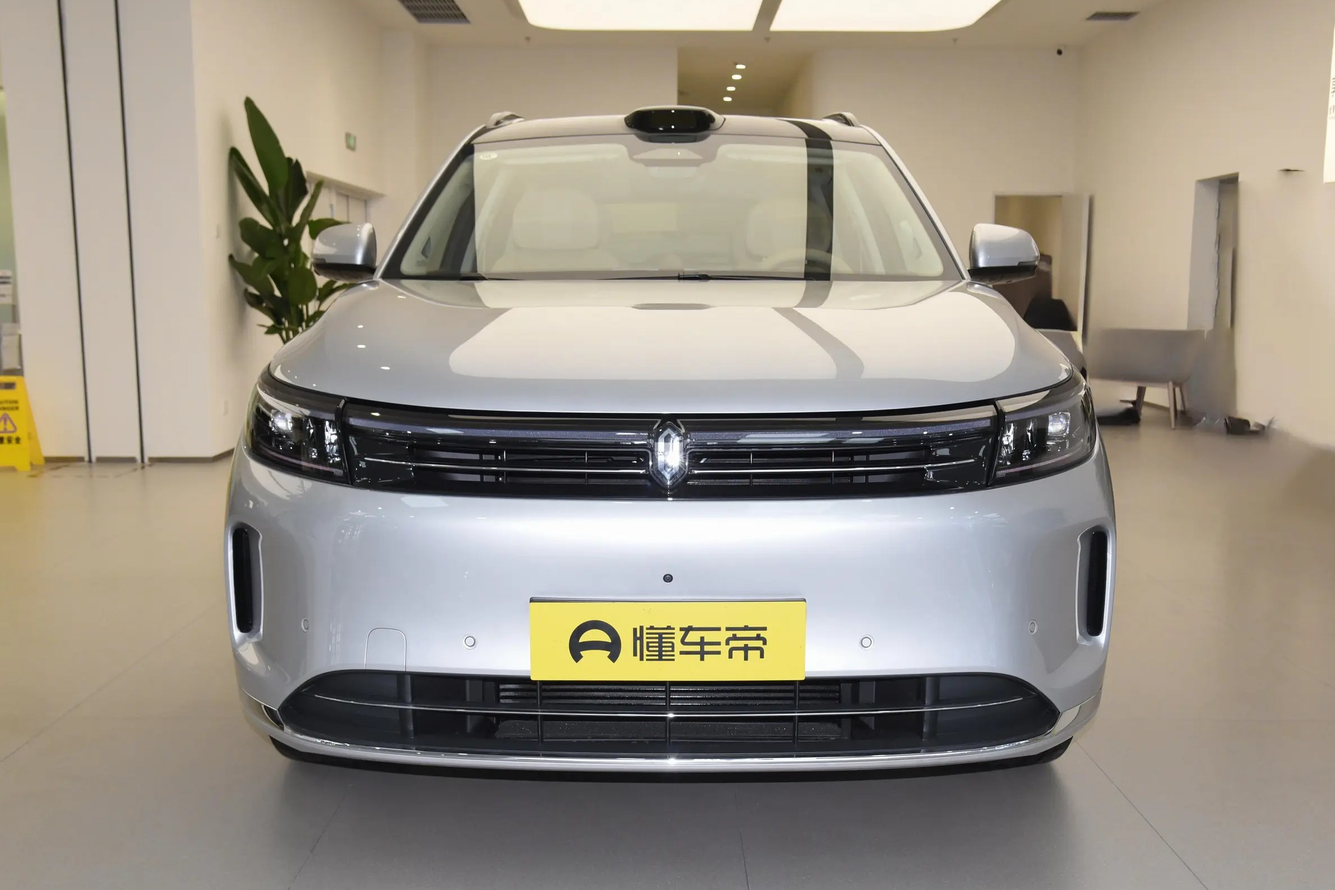AITO: (659, 429, 679, 478)
